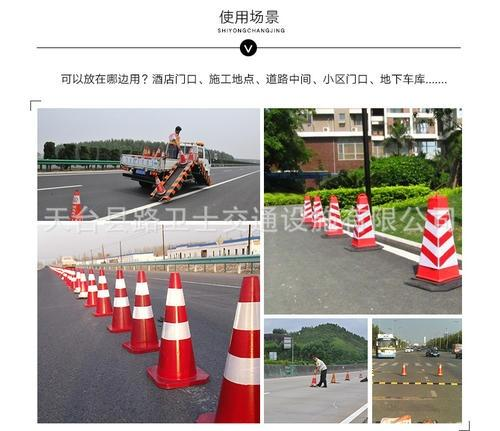cone_barrel: (205, 279, 267, 425), (148, 273, 207, 387), (408, 197, 460, 288), (125, 269, 156, 353), (346, 191, 378, 249), (108, 266, 132, 334), (93, 265, 111, 317), (65, 186, 88, 220), (324, 191, 342, 234), (310, 194, 327, 227), (300, 194, 314, 223), (84, 269, 95, 305), (76, 269, 88, 299), (309, 372, 317, 386), (399, 361, 406, 376), (435, 362, 443, 375), (329, 371, 335, 383)
